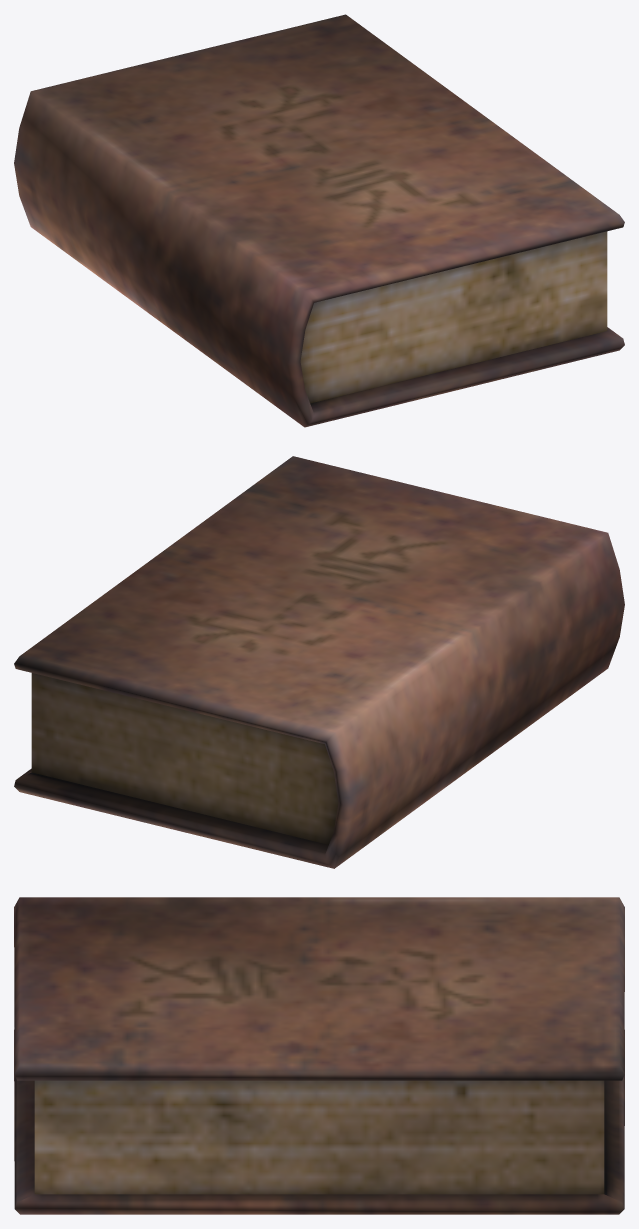
Rendered from Book.FBX.
3 renders of one model, top to bottom at view 1: azimuth 30°, elevation 25°; view 2: azimuth 150°, elevation 25°; view 3: azimuth 270°, elevation 25°, orthographic. The views are drawn at different scales.
Parts seen in each view (by area): view 1: book; view 2: book; view 3: book.
Boxes of the visible parts, box(x1,y1,x2,y2) form: book: box(14, 14, 624, 427); book: box(14, 456, 624, 868); book: box(14, 897, 624, 1214).
Bounding box in the file's own units: 6.55 × 2.54 × 9.45.
